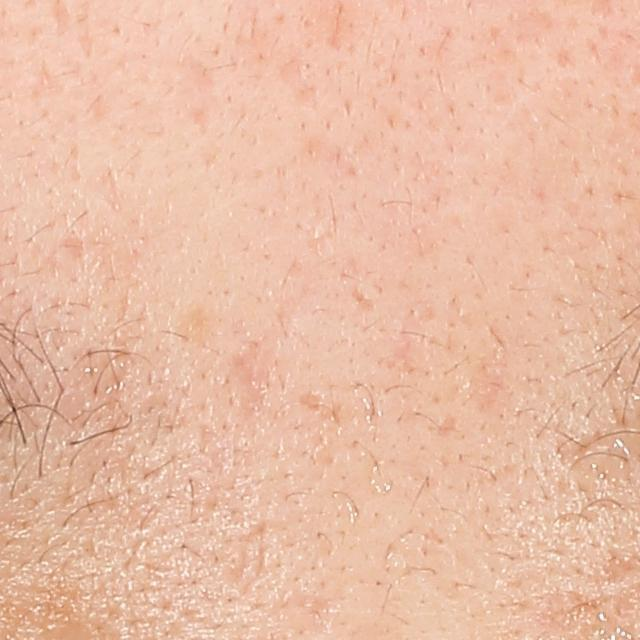atrophic_scar: (222, 342, 270, 419), (228, 525, 263, 591), (279, 53, 315, 109), (300, 386, 334, 411), (430, 410, 462, 436), (353, 284, 375, 318), (193, 99, 213, 135)
